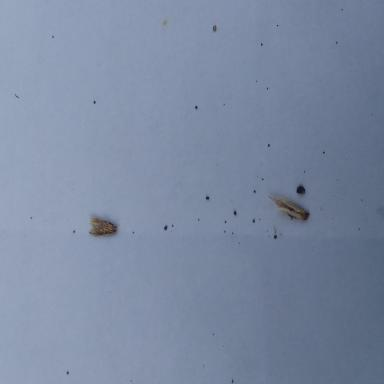pbw: (267, 194, 309, 222), (89, 215, 116, 235)
